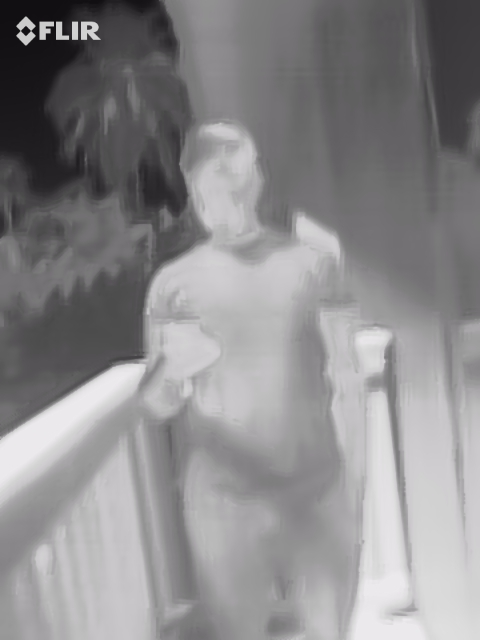head: (177, 121, 264, 229)
